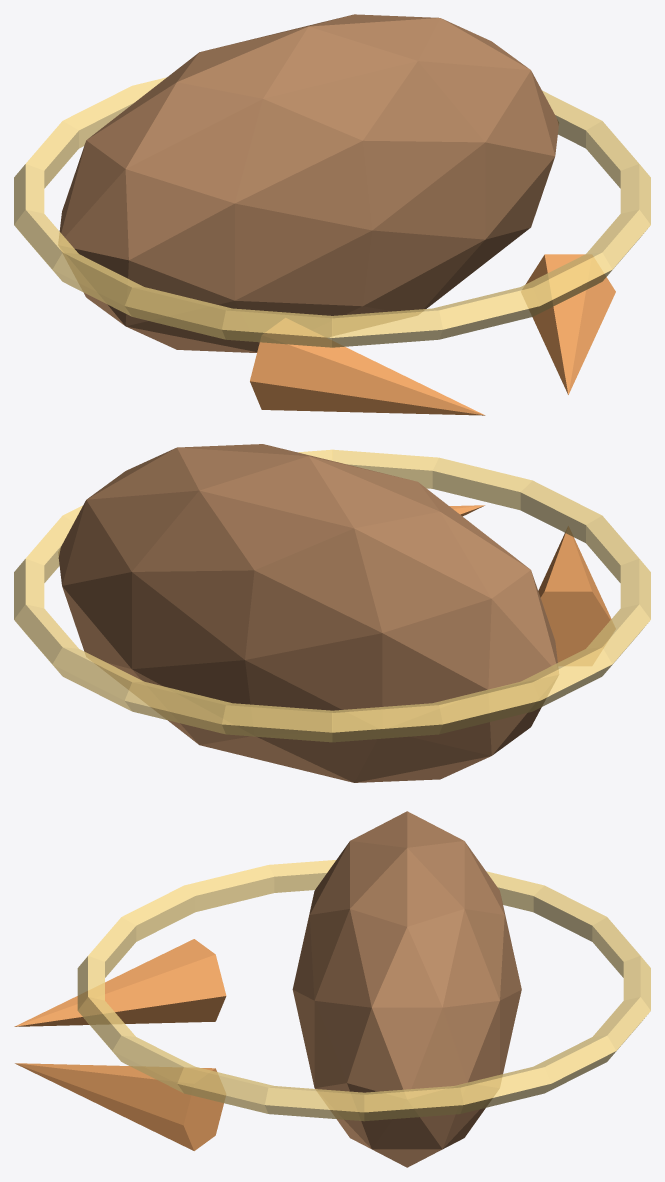
Rendered from 04_creature_skin_element_overlay_4.glb.
3 renders of one model, top to bottom at view 1: azimuth 30°, elevation 25°; view 2: azimuth 150°, elevation 25°; view 3: azimuth 270°, elevation 25°, orthographic. The views are drawn at different scales.
Visible parts, largest first — view 1: skin_patch_body, element_aura, elemental_horn_l, elemental_horn_r; view 2: skin_patch_body, element_aura, elemental_horn_l; view 3: skin_patch_body, element_aura, elemental_horn_l, elemental_horn_r.
Part boxes in pixels (bbox=[...]): skin_patch_body: bbox=[58, 14, 558, 352]; element_aura: bbox=[14, 77, 650, 347]; elemental_horn_l: bbox=[250, 318, 485, 415]; elemental_horn_r: bbox=[521, 254, 615, 394]; skin_patch_body: bbox=[58, 444, 558, 782]; element_aura: bbox=[14, 449, 650, 742]; elemental_horn_l: bbox=[538, 526, 615, 665]; skin_patch_body: bbox=[292, 811, 521, 1167]; element_aura: bbox=[77, 860, 650, 1121]; elemental_horn_l: bbox=[14, 939, 226, 1026]; elemental_horn_r: bbox=[15, 1063, 225, 1150].
Bounding box in the file's own units: 0.95 × 0.51 × 1.04.
